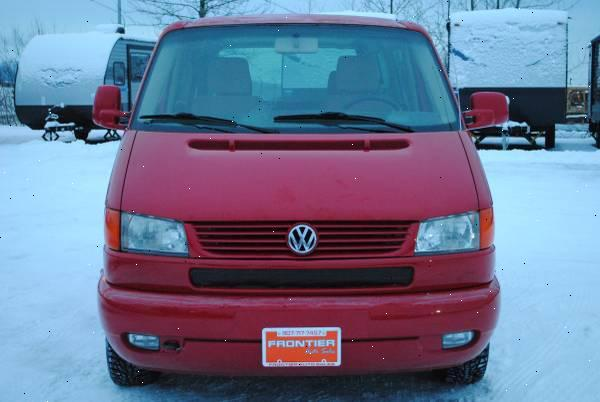Front_Bumper: (98, 244, 501, 374)
Front_Windshield: (132, 20, 462, 133)
Grille: (184, 219, 419, 256)
Hood: (105, 129, 494, 220)
Left_Headlight: (414, 204, 496, 255)
Left_Mirror: (470, 93, 510, 127)
Right_Headlight: (105, 208, 187, 259)
Right_Mirror: (89, 82, 121, 127)
